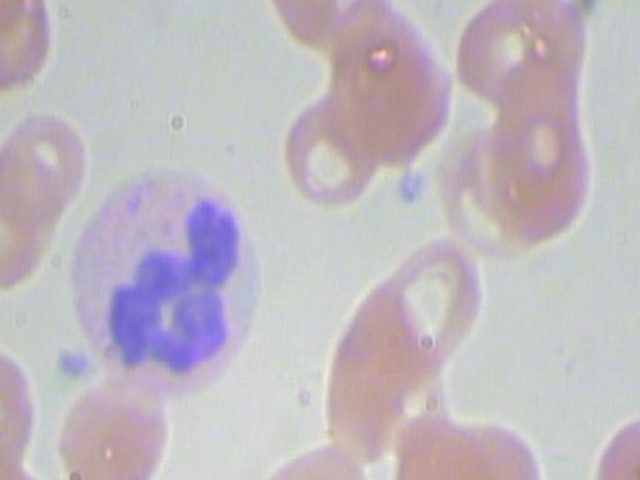Platelets: (50, 343, 97, 388), (389, 162, 436, 207)
RBC: (478, 85, 604, 253), (443, 0, 604, 114), (371, 232, 492, 372), (269, 83, 389, 213), (327, 0, 447, 128), (403, 405, 557, 480), (0, 112, 88, 242), (0, 159, 68, 289), (252, 0, 389, 63), (249, 426, 385, 480), (576, 384, 640, 480), (0, 0, 53, 92)
WBC: (61, 155, 261, 404)
